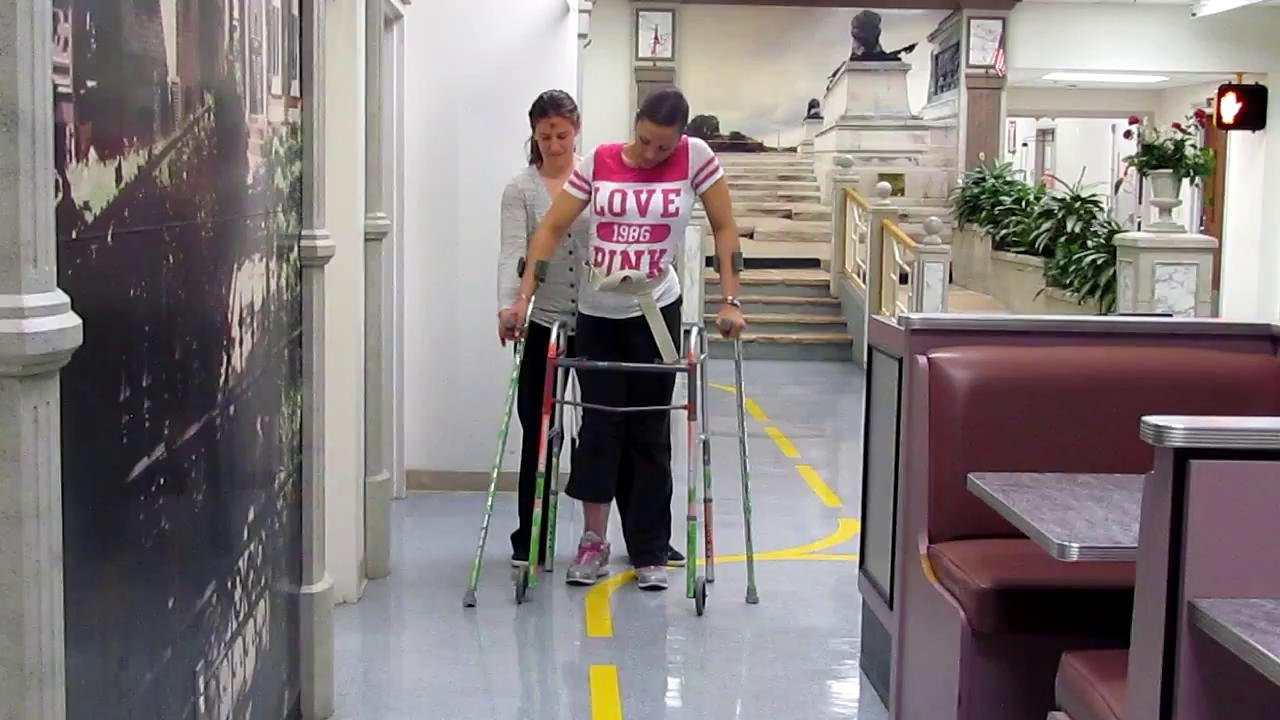victim: (498, 89, 750, 596), (488, 84, 686, 581)
